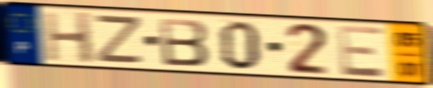0: (217, 19, 263, 72)
2: (284, 21, 330, 77)
B: (157, 15, 211, 68)
E: (335, 23, 388, 79)
H: (40, 10, 97, 66)
Z: (94, 15, 145, 67)
